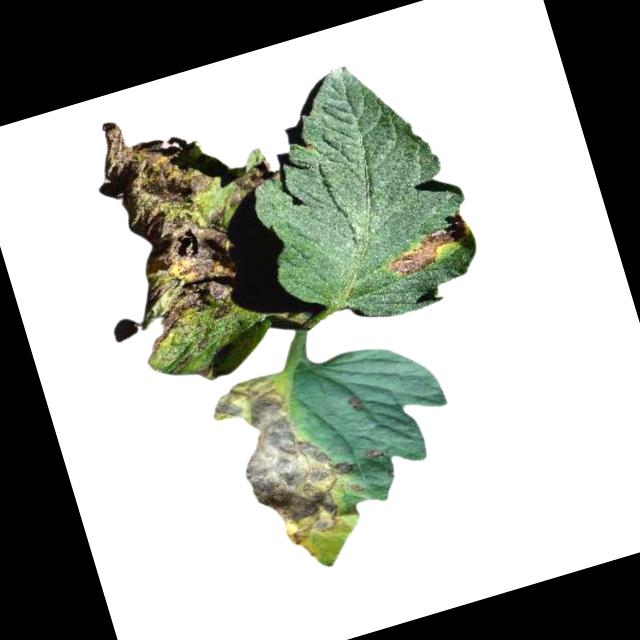Early_blight: (75, 96, 248, 344), (204, 356, 374, 559), (374, 213, 465, 281), (229, 159, 282, 193), (344, 389, 371, 419), (363, 443, 388, 464)
